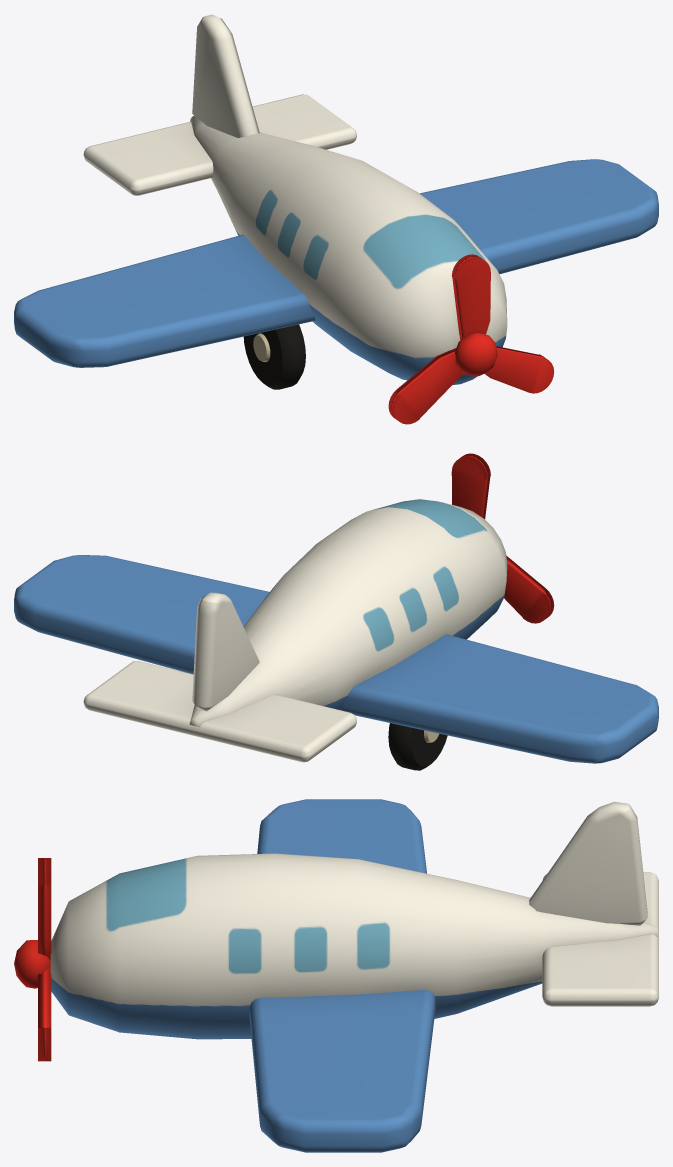
3 views of the same model, one above another, from view 1: azimuth 30°, elevation 25°; view 2: azimuth 150°, elevation 25°; view 3: azimuth 270°, elevation 25° (orthographic). The views are drawn at different scales.
Parts seen in each view (by area): view 1: plane; view 2: plane; view 3: plane.
Part boxes in pixels (bbox=[...]): plane: bbox=[14, 14, 658, 424]; plane: bbox=[14, 453, 658, 770]; plane: bbox=[14, 799, 658, 1152].
Size of the model in its own units: 2600 by 1030 by 2158.
Materials: 1 (1 with a texture image).
